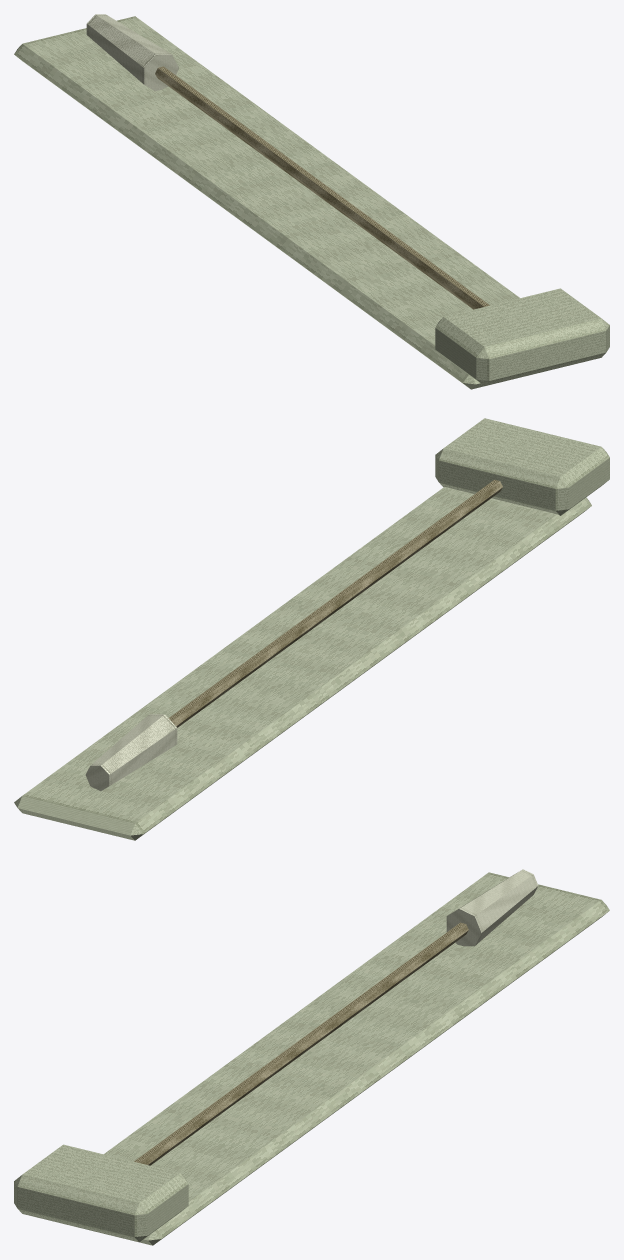
Rendered from blender_ectoplasm_sampler_1_open.glb.
The picture shows the model from 3 angles, top to bottom: view 1: azimuth 30°, elevation 25°; view 2: azimuth 150°, elevation 25°; view 3: azimuth 330°, elevation 25°; orthographic projection.
Visible parts, largest first — view 1: blender_ectoplasm_sampler_1_open; view 2: blender_ectoplasm_sampler_1_open; view 3: blender_ectoplasm_sampler_1_open.
Part boxes in pixels (x1=…): blender_ectoplasm_sampler_1_open: x1=14, y1=14, x2=609, y2=389; blender_ectoplasm_sampler_1_open: x1=14, y1=418, x2=609, y2=840; blender_ectoplasm_sampler_1_open: x1=14, y1=869, x2=609, y2=1245.
Bounding box in the file's own units: 0.032 × 0.0125 × 0.1965.
Materials: 3 (3 with a texture image).
